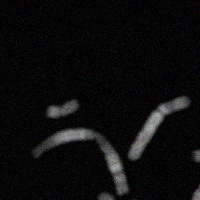chromosome: (31, 128, 129, 195), (127, 96, 190, 160), (47, 100, 78, 117), (187, 168, 200, 200), (98, 192, 120, 200), (193, 144, 200, 162)
